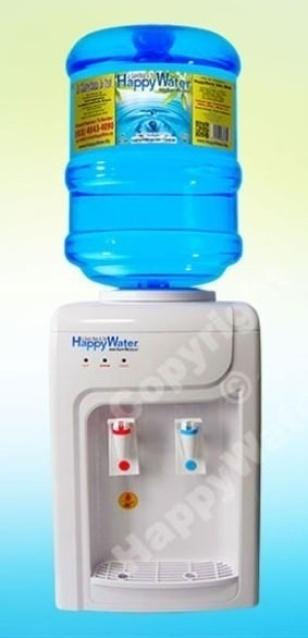Dispenser: (49, 24, 260, 612)
